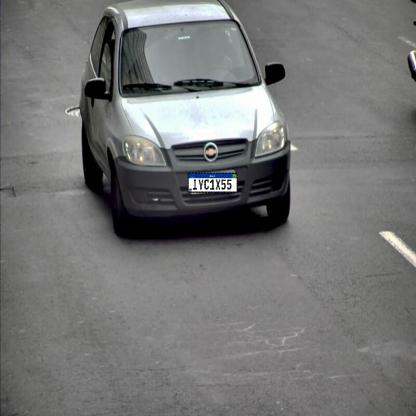PlacaM: (188, 172, 238, 192)
